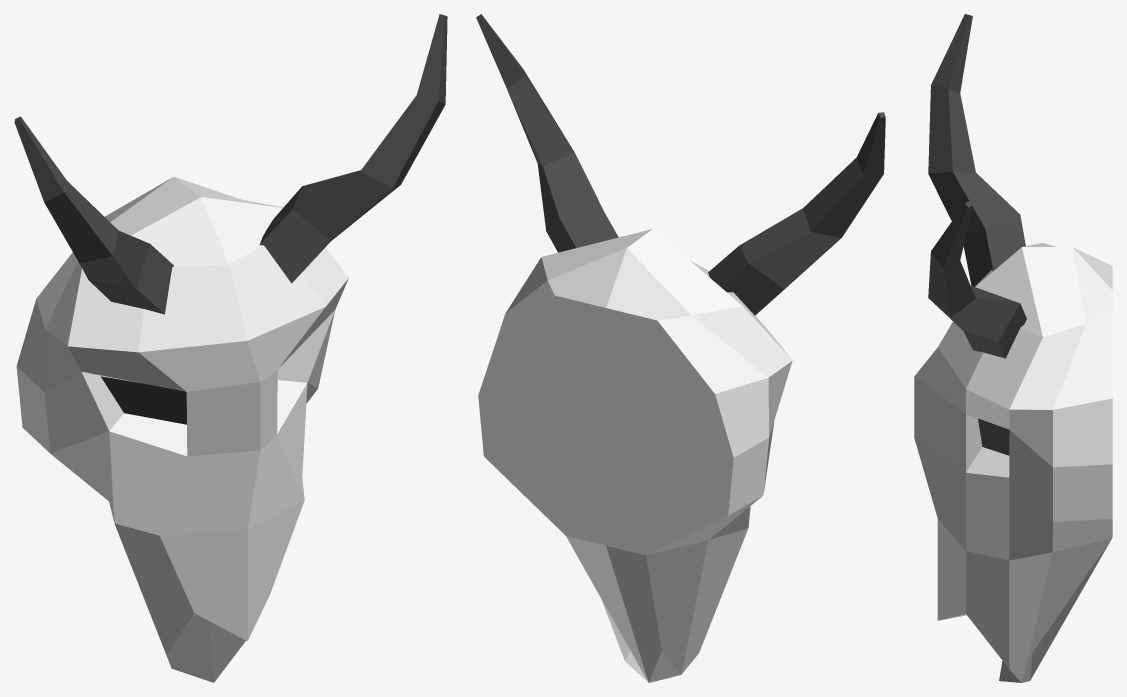
Rendered from Skull_2.fbx.
3 renders of one model, left to right at view 1: azimuth 30°, elevation 25°; view 2: azimuth 150°, elevation 25°; view 3: azimuth 270°, elevation 25°, orthographic. The views are drawn at different scales.
Visible parts, largest first — view 1: Skull_2; view 2: Skull_2; view 3: Skull_2.
Boxes of the visible parts, <box> form: Skull_2: <box>14,14,447,682</box>; Skull_2: <box>476,14,885,682</box>; Skull_2: <box>914,14,1112,682</box>.
Bounding box in the file's own units: 55.13 × 23.99 × 76.58.
